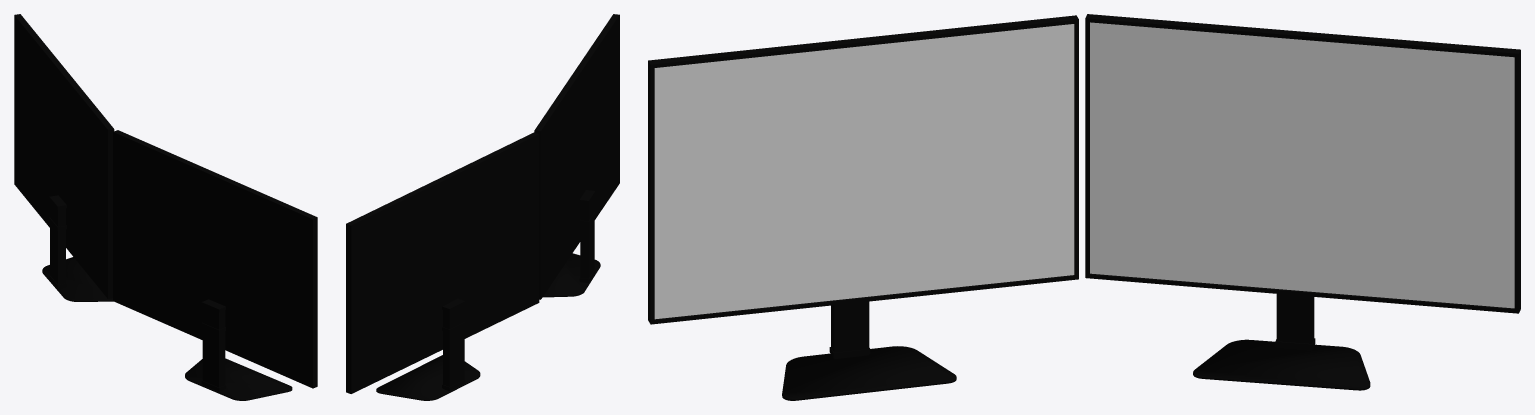
File: monitors.glb
3 views of the same model, side by side, from view 1: azimuth 30°, elevation 25°; view 2: azimuth 150°, elevation 25°; view 3: azimuth 270°, elevation 25° (orthographic). The views are drawn at different scales.
Parts seen in each view (by area): view 1: left-monitor-frame, right-monitor-frame; view 2: right-monitor-frame, left-monitor-frame; view 3: right-monitor-screen, left-monitor-screen, right-monitor-frame, left-monitor-frame.
Part boxes in pixels (x1=…): left-monitor-frame: x1=113, y1=130, x2=317, y2=400; right-monitor-frame: x1=14, y1=14, x2=114, y2=301; right-monitor-frame: x1=346, y1=132, x2=539, y2=400; left-monitor-frame: x1=534, y1=14, x2=619, y2=299; right-monitor-screen: x1=1090, y1=22, x2=1514, y2=308; left-monitor-screen: x1=654, y1=24, x2=1074, y2=319; right-monitor-frame: x1=1085, y1=14, x2=1520, y2=390; left-monitor-frame: x1=648, y1=15, x2=1078, y2=400.
Bounding box in the file's own units: 0.187 × 0.4263 × 1.05.
Materials: 1 (1 with a texture image).
